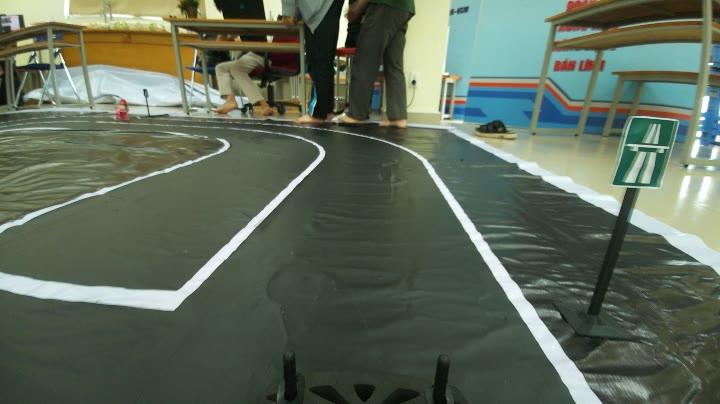highway_entry: (618, 114, 676, 188)
